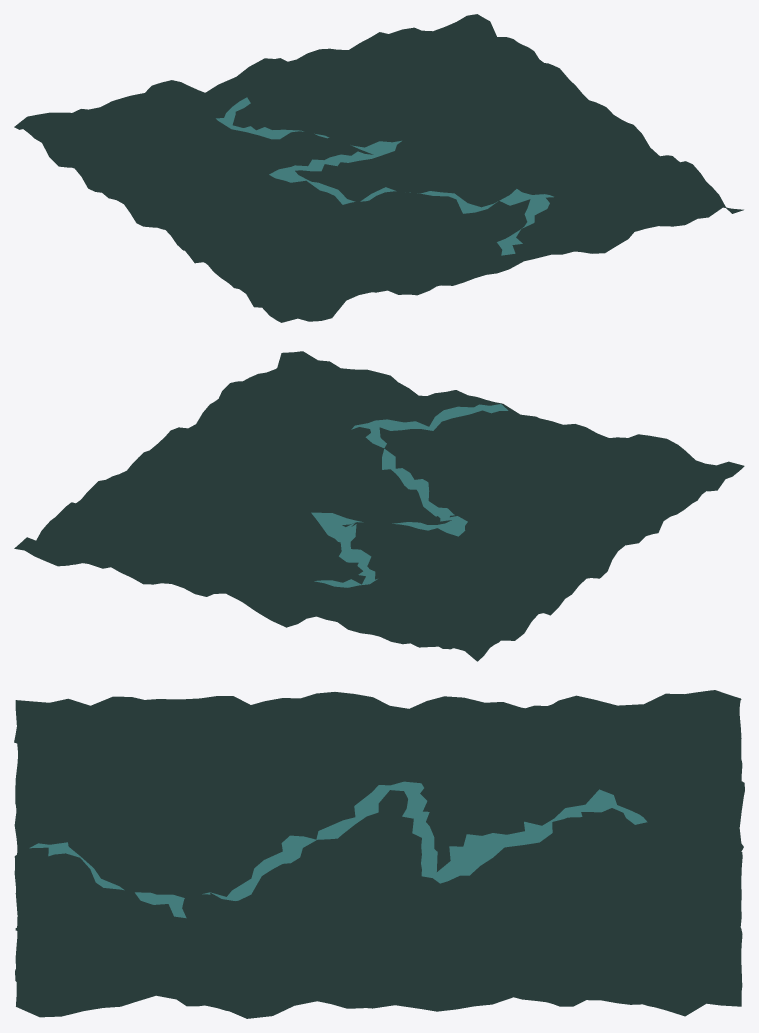
Rendered from onlyWaterForLevel072.fbx.
The picture shows the model from 3 angles, top to bottom: view 1: azimuth 30°, elevation 25°; view 2: azimuth 150°, elevation 25°; view 3: azimuth 270°, elevation 25°; orthographic projection. The views are drawn at different scales.
Visible parts, largest first — view 1: Plane; view 2: Plane; view 3: Plane.
Part boxes in pixels (left/top/right/bottom): Plane: left=14, top=14, right=743, bottom=322; Plane: left=14, top=351, right=744, bottom=661; Plane: left=14, top=690, right=744, bottom=1018.
Size of the model in its own units: 5105 by 346 by 5118.
